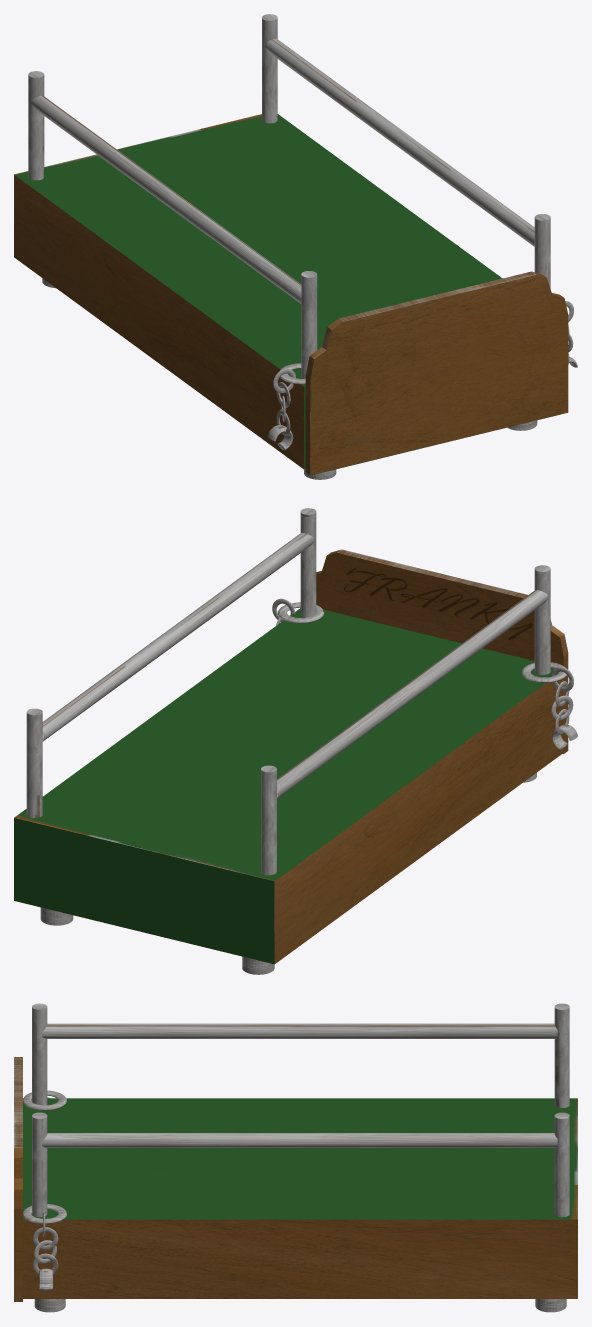
File: Bett_Franky_V2.fbx
The picture shows the model from 3 angles, top to bottom: view 1: azimuth 30°, elevation 25°; view 2: azimuth 150°, elevation 25°; view 3: azimuth 270°, elevation 25°; orthographic projection. The views are drawn at different scales.
Visible parts, largest first — view 1: Cube; view 2: Cube; view 3: Cube.
Part boxes in pixels (x1,y1,x2,y2): Cube: [14, 14, 577, 479]; Cube: [14, 508, 577, 974]; Cube: [14, 1003, 577, 1312].
Size of the model in its own units: 122 by 78.66 by 203.
